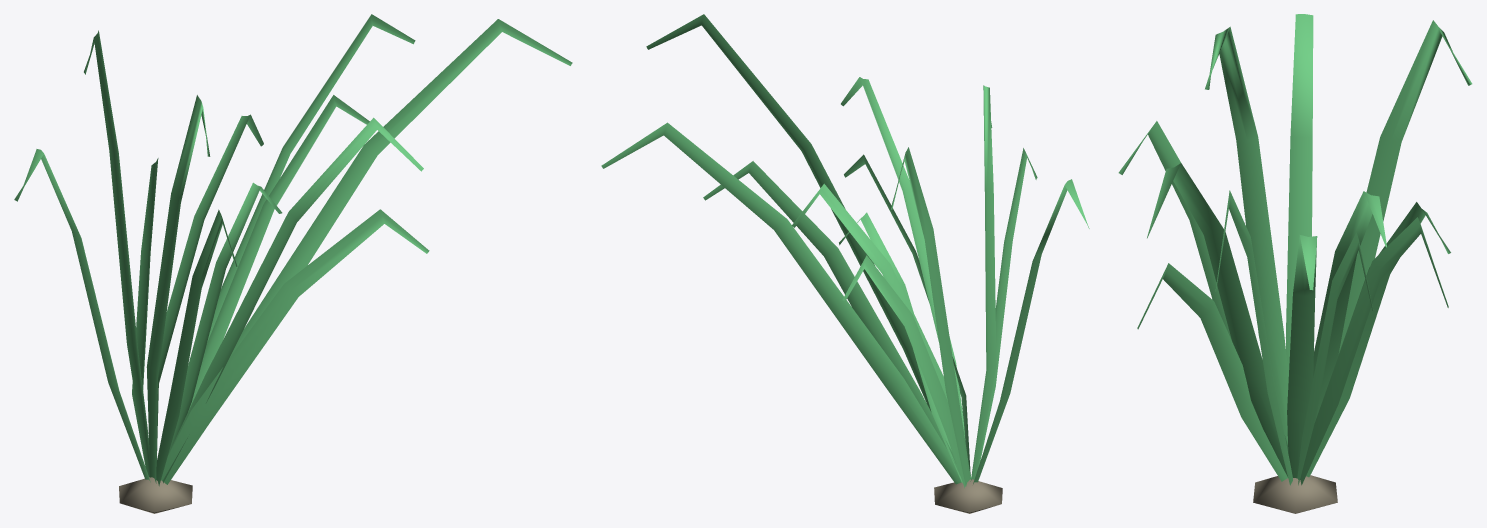
The model's file is aquatic_eelgrass.glb.
The picture shows the model from 3 angles, left to right: view 1: azimuth 30°, elevation 25°; view 2: azimuth 150°, elevation 25°; view 3: azimuth 270°, elevation 25°; orthographic projection. The views are drawn at different scales.
Visible parts, largest first — view 1: Flora_Eelgrass; view 2: Flora_Eelgrass; view 3: Flora_Eelgrass.
Part boxes in pixels (x1,y1,x2,y2): Flora_Eelgrass: (14,14,572,513); Flora_Eelgrass: (601,14,1089,513); Flora_Eelgrass: (1118,14,1472,513).
Bounding box in the file's own units: 0.851 × 0.6907 × 0.4447.
